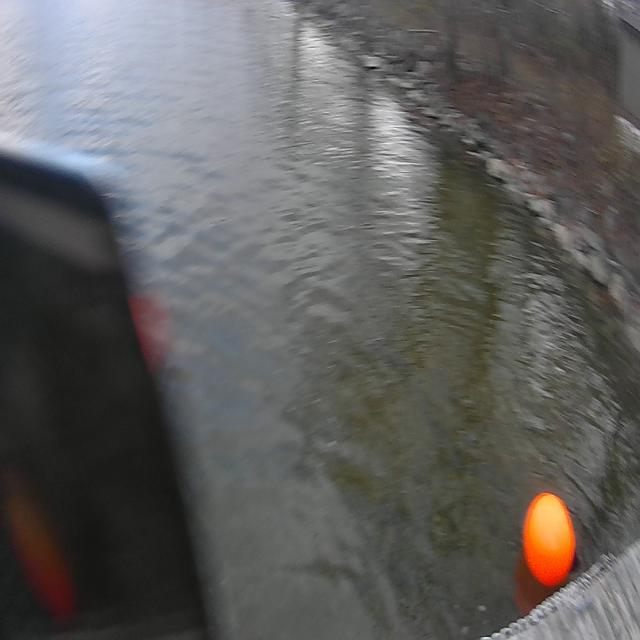Buoy: (520, 480, 584, 608)
